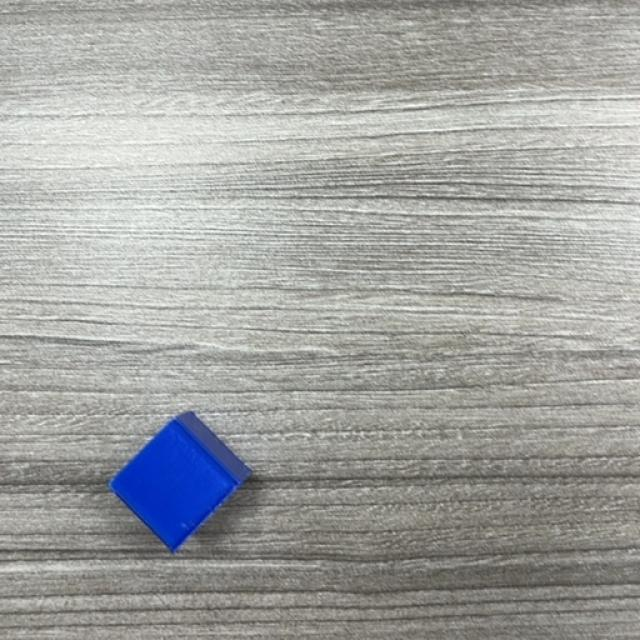Azul: (108, 411, 252, 554)
